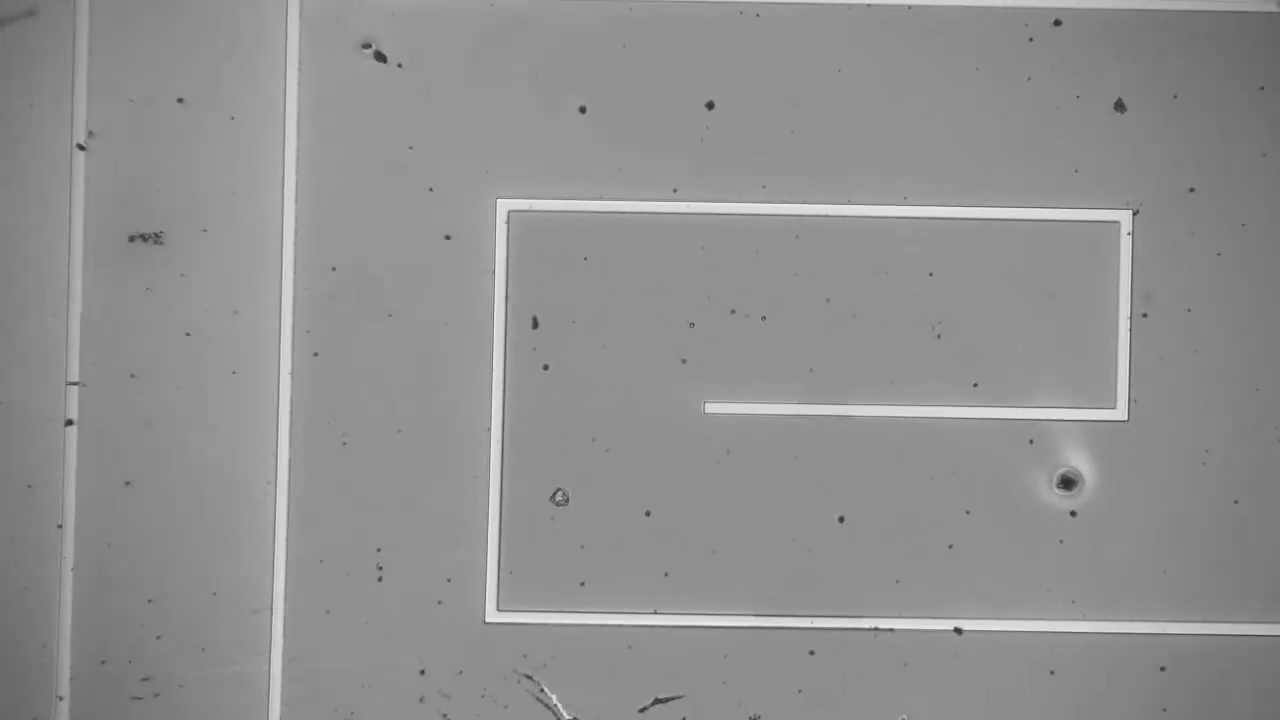open: (60, 368, 86, 394)
stains_enbedded: (65, 139, 100, 163), (60, 412, 82, 438)
